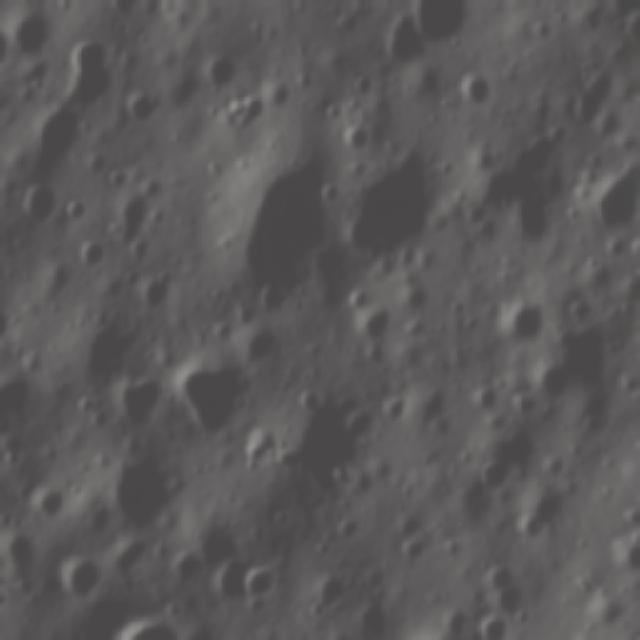crater: (205, 134, 340, 294), (270, 376, 384, 495), (336, 144, 442, 261), (167, 344, 264, 438), (530, 315, 618, 402), (98, 446, 182, 537), (59, 305, 141, 386), (14, 101, 92, 173), (53, 29, 118, 112), (463, 151, 522, 223), (109, 369, 168, 436), (116, 597, 207, 640), (586, 162, 640, 230), (202, 549, 256, 611), (7, 0, 61, 62), (0, 513, 52, 577), (378, 10, 429, 75), (301, 565, 354, 627), (56, 548, 113, 604), (407, 0, 471, 46), (518, 474, 573, 526), (13, 174, 65, 228), (494, 294, 548, 346), (221, 82, 267, 142), (238, 550, 290, 602), (121, 80, 167, 132), (353, 299, 399, 350), (487, 578, 544, 619), (241, 319, 285, 370), (161, 544, 207, 590), (197, 42, 240, 88), (584, 584, 628, 627), (239, 425, 284, 466), (29, 485, 73, 526), (474, 456, 518, 496), (139, 271, 181, 312), (475, 557, 522, 592), (256, 277, 298, 315), (511, 512, 557, 546), (376, 386, 418, 423), (607, 526, 640, 573), (334, 121, 378, 156), (330, 508, 368, 547), (58, 189, 98, 226), (474, 611, 524, 640), (74, 236, 112, 273), (347, 67, 384, 102), (470, 378, 505, 413), (509, 388, 546, 420), (397, 534, 428, 563), (624, 501, 640, 535), (632, 181, 640, 228)
